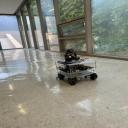cart: (55, 60, 98, 86)
